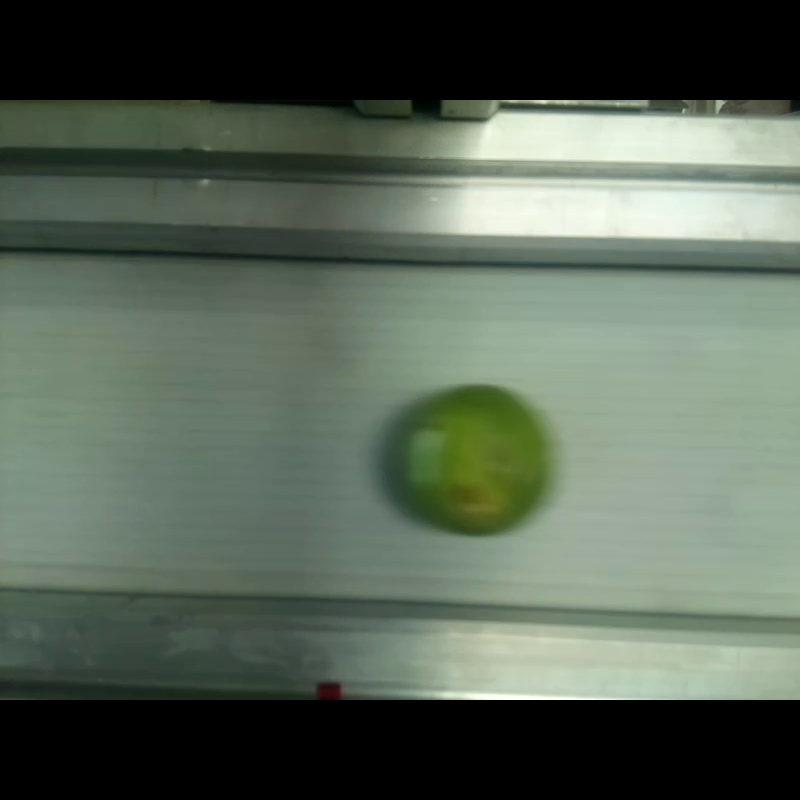lime: (394, 388, 547, 538)
